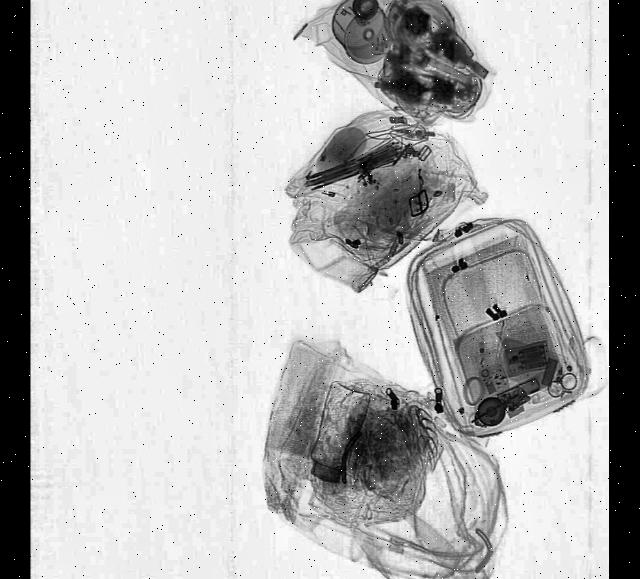Wrench: (411, 45, 478, 92)
